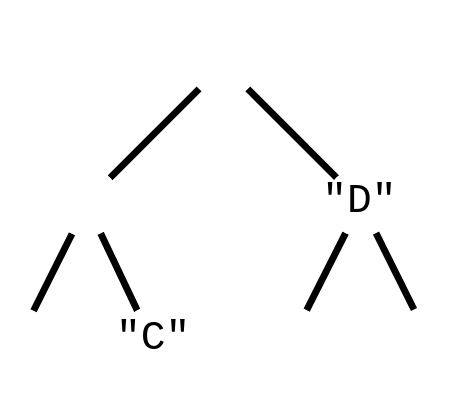
This 449x402 diagram has some shape labels left out. Here are the shapes that lost their labels. From the top down, the box of each, then its label:
(188, 29, 257, 98): "A"
(51, 167, 119, 236): "B"
